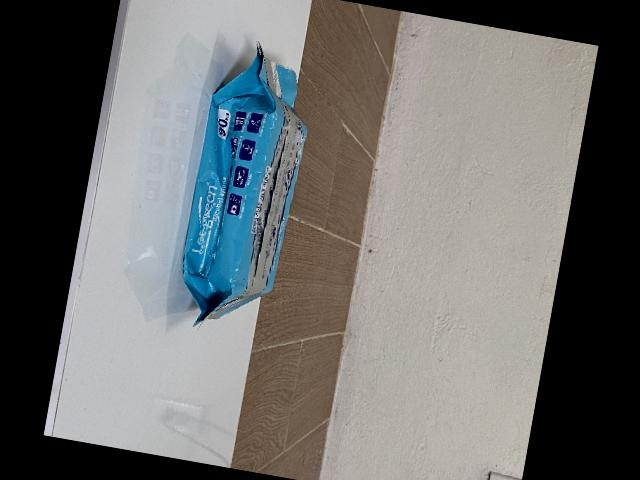Let-green_alcohol_wipes: (179, 43, 306, 323)
